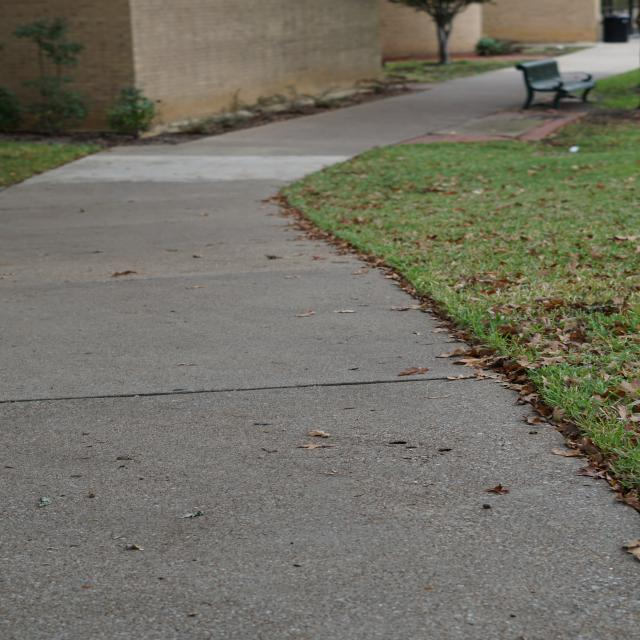Obstacle: (516, 60, 595, 109), (603, 14, 631, 42)
Sidewalk: (0, 68, 638, 640), (555, 39, 638, 79)
